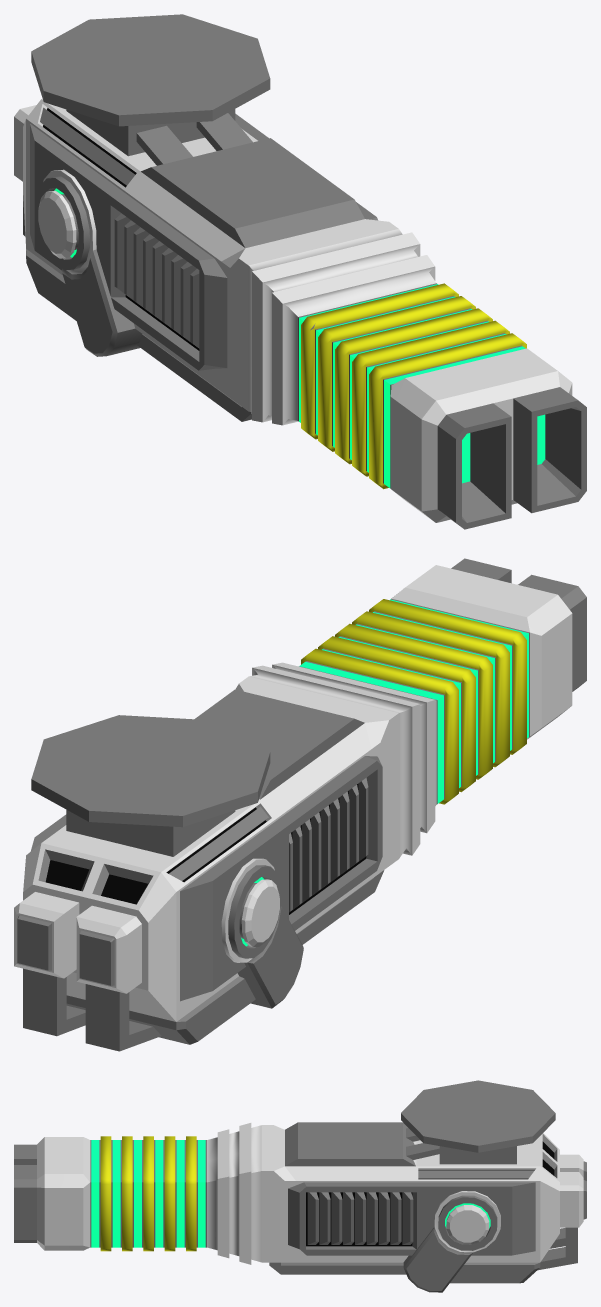
Rendered from 1_PlasmaRifle.fbx.
3 renders of one model, top to bottom at view 1: azimuth 30°, elevation 25°; view 2: azimuth 150°, elevation 25°; view 3: azimuth 270°, elevation 25°, orthographic. The views are drawn at different scales.
Visible parts, largest first — view 1: MainBody, Mount, Detail; view 2: MainBody, Mount, Detail; view 3: MainBody, Mount, Detail.
Part boxes in pixels (left/top/right/bottom): MainBody: left=14, top=98, right=586, bottom=529; Mount: left=31, top=14, right=270, bottom=156; Detail: left=36, top=169, right=141, bottom=356; MainBody: left=14, top=558, right=586, bottom=1051; Mount: left=31, top=715, right=270, bottom=856; Detail: left=221, top=858, right=303, bottom=1008; MainBody: left=14, top=1122, right=586, bottom=1283; Mount: left=401, top=1080, right=555, bottom=1164; Detail: left=403, top=1191, right=500, bottom=1292.
Bounding box in the file's own units: 200 × 215 × 740.
